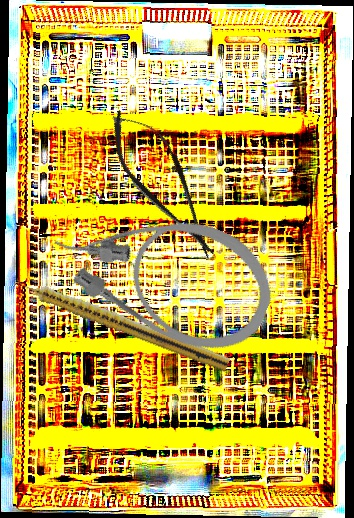Cannula: (38, 171, 289, 369)
Handpiece: (11, 271, 233, 373)
Micro Scissor: (95, 97, 234, 271)
